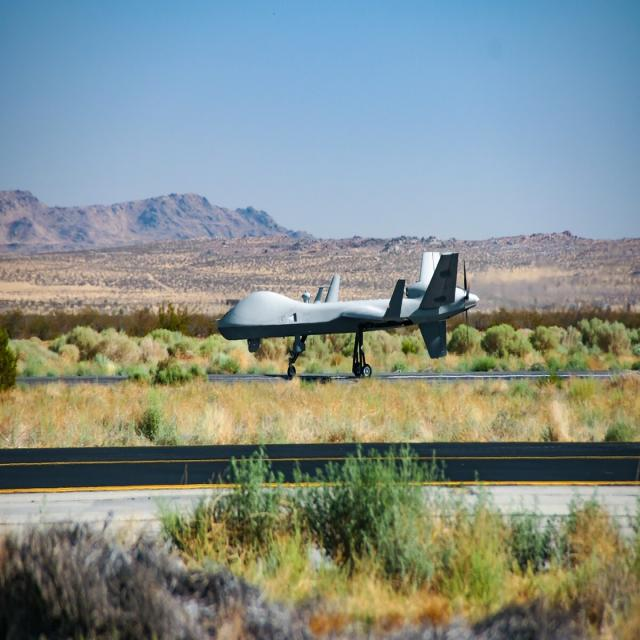MIL_Plane: (211, 251, 479, 378)
